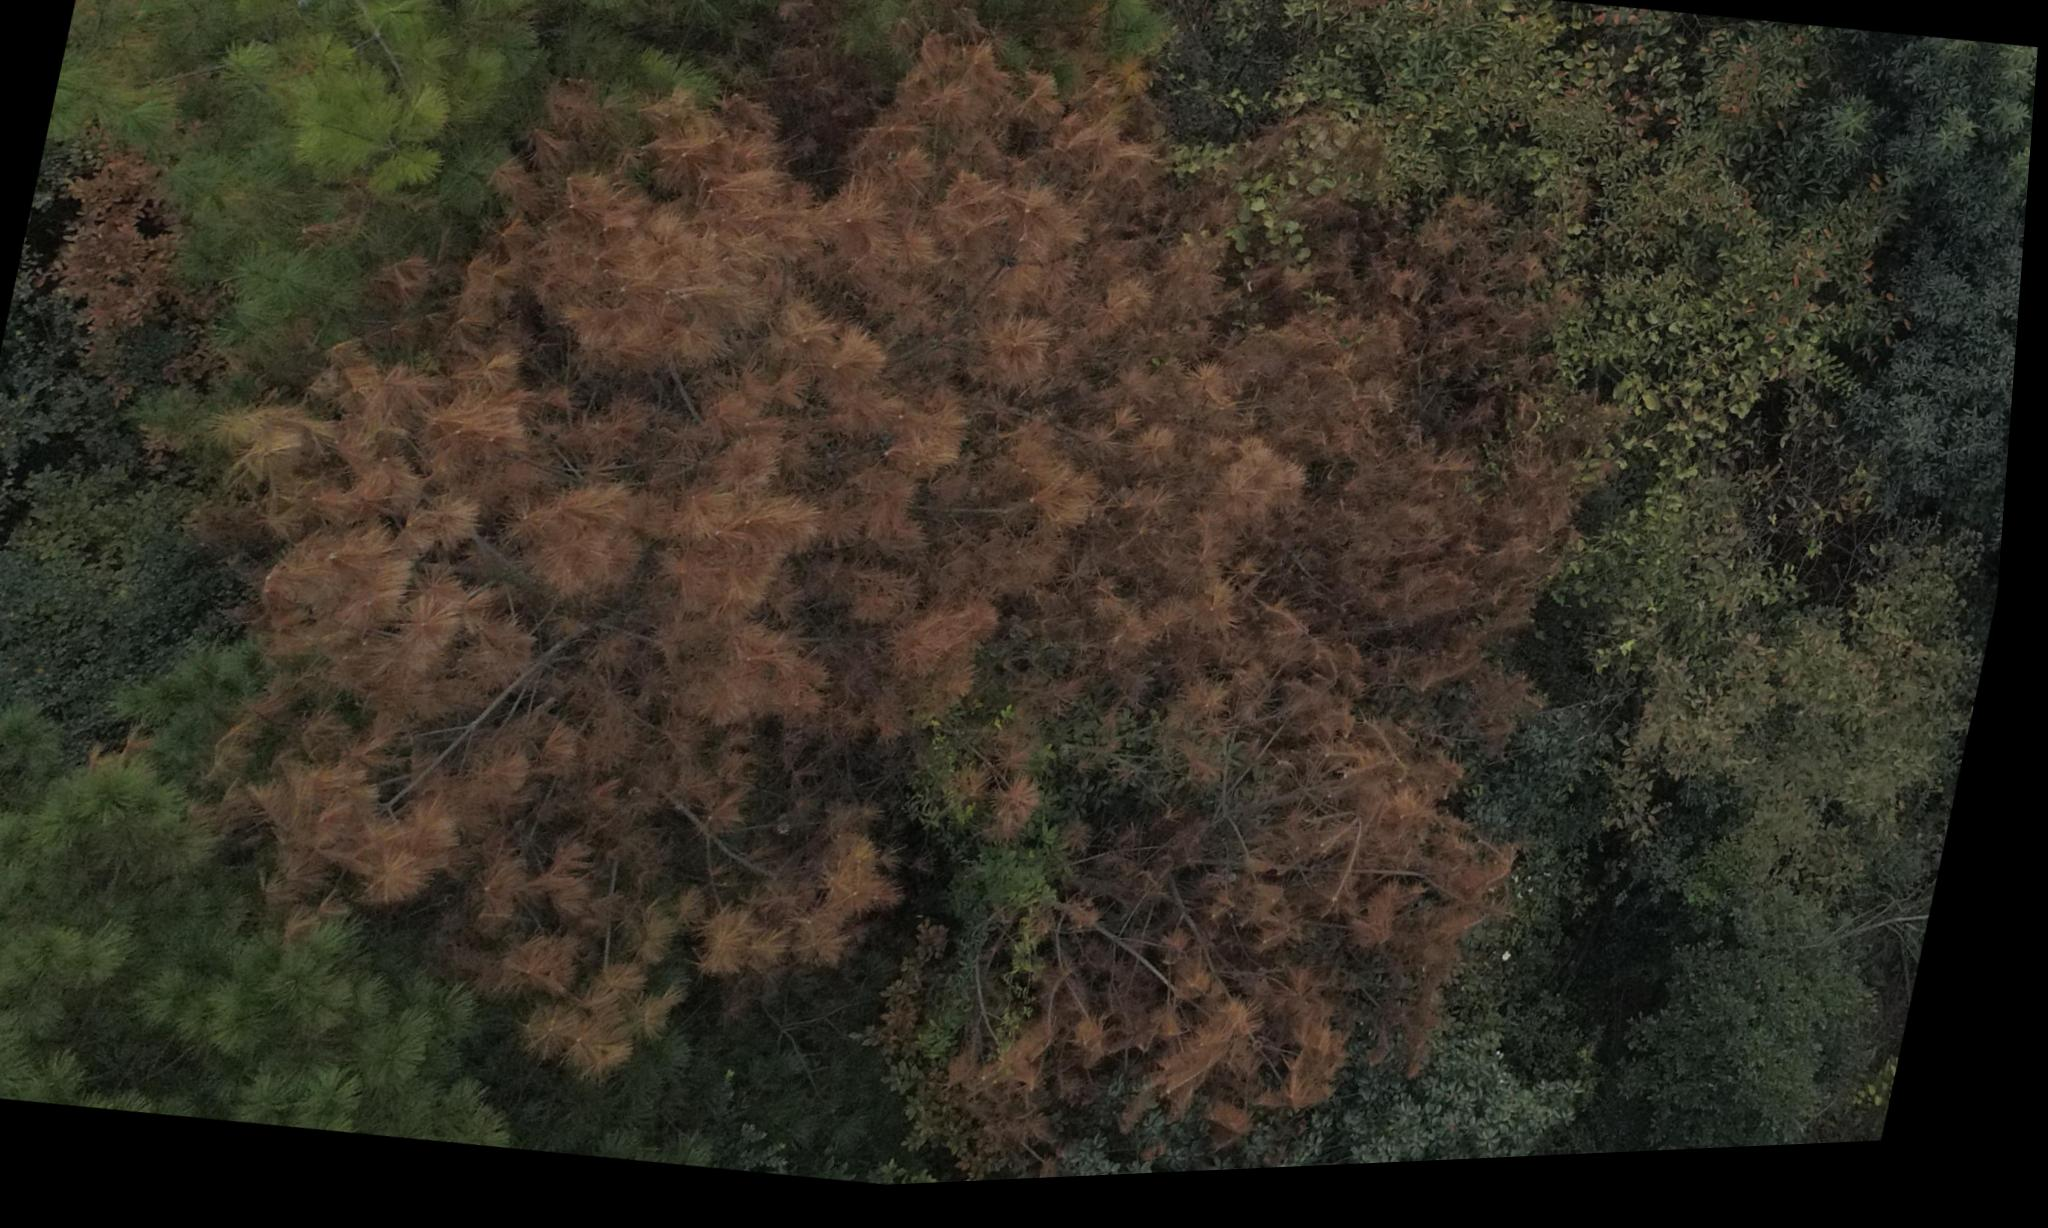heavy: (108, 0, 1690, 1222)
